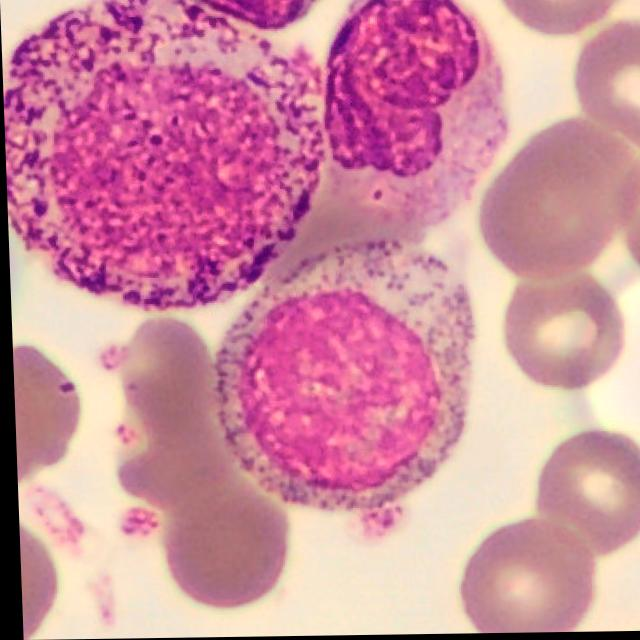Mielocito: (215, 245, 471, 514)
Promielocito: (3, 2, 323, 313)
